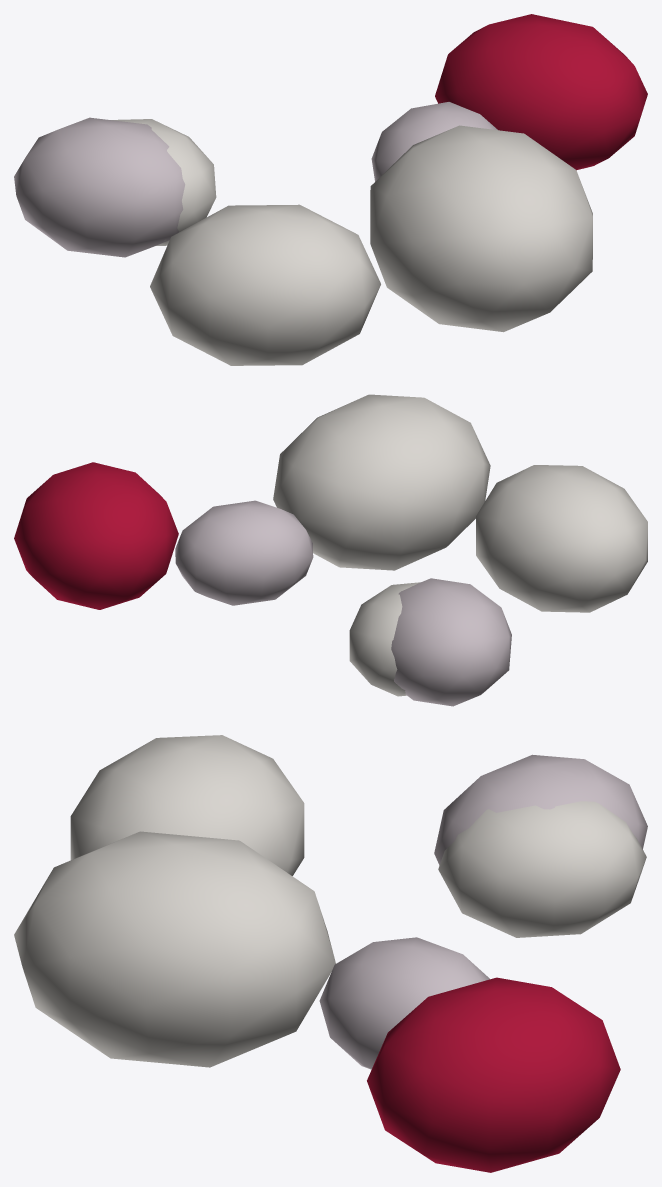
File: ZB_obje_inci_cakil.glb
3 views of the same model, one above another, from view 1: azimuth 30°, elevation 25°; view 2: azimuth 150°, elevation 25°; view 3: azimuth 270°, elevation 25° (orthographic). The views are drawn at different scales.
Visible parts, largest first — view 1: ZB_obje_inci_cakil; view 2: ZB_obje_inci_cakil; view 3: ZB_obje_inci_cakil.
Part boxes in pixels (x1,y1,x2,y2): ZB_obje_inci_cakil: (14,14,647,365); ZB_obje_inci_cakil: (14,394,647,706); ZB_obje_inci_cakil: (14,735,647,1172).
Bounding box in the file's own units: 0.4086 × 0.1172 × 0.322.
